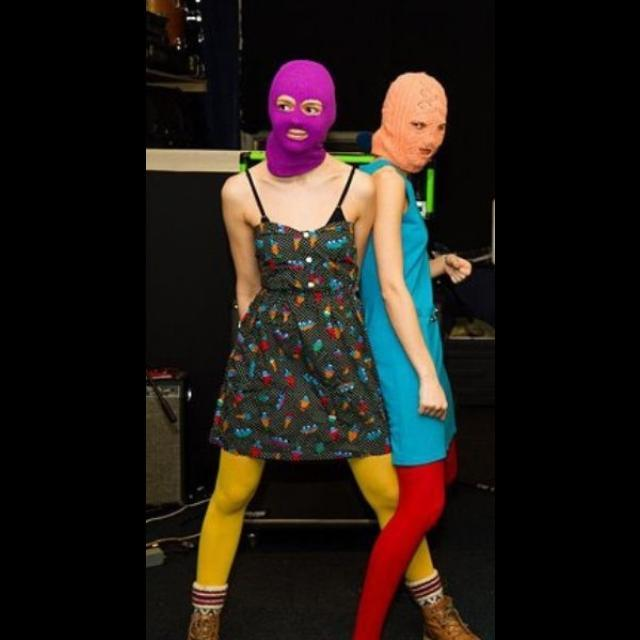criminal: (188, 62, 481, 640), (354, 74, 473, 640)
